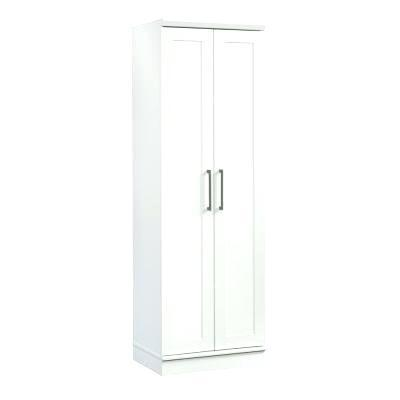cabinet_door: (164, 27, 213, 362), (216, 26, 258, 348)
handle: (203, 167, 212, 212), (218, 167, 225, 212)
